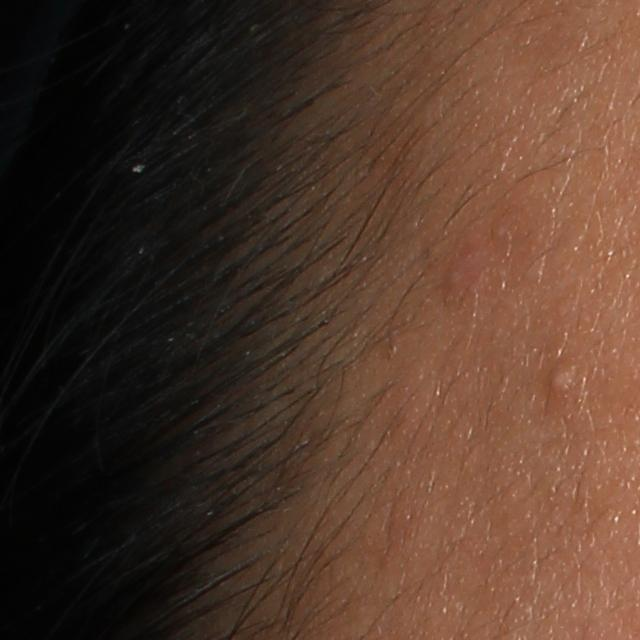comedo: (545, 358, 584, 395)
